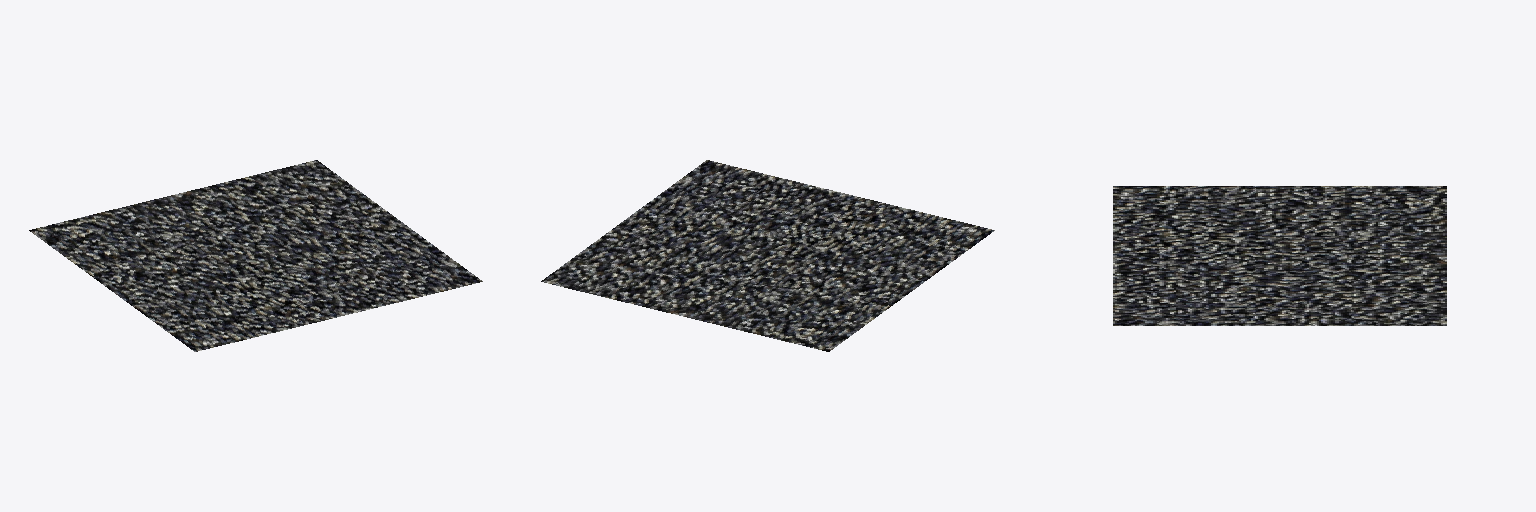
3 views of the same model, side by side, from view 1: azimuth 30°, elevation 25°; view 2: azimuth 150°, elevation 25°; view 3: azimuth 270°, elevation 25° (orthographic).
Visible parts, largest first — view 1: Cube.002_Cube.003; view 2: Cube.002_Cube.003; view 3: Cube.002_Cube.003.
Boxes of the visible parts, x1,y1,x2,y2 form: Cube.002_Cube.003: [29, 160, 482, 351]; Cube.002_Cube.003: [541, 160, 994, 351]; Cube.002_Cube.003: [1113, 186, 1446, 325].
Size of the model in its own units: 2 by 0 by 2.
Materials: 1 (1 with a texture image).